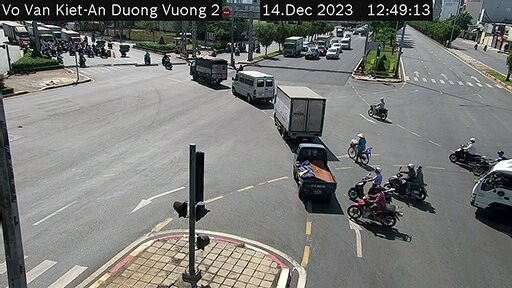motorbike: (395, 158, 433, 207), (353, 186, 398, 220), (470, 147, 512, 174), (349, 167, 394, 191), (451, 133, 477, 173), (368, 95, 395, 125)
truck: (268, 79, 324, 140), (278, 134, 329, 196), (184, 49, 229, 92), (225, 68, 273, 105)
